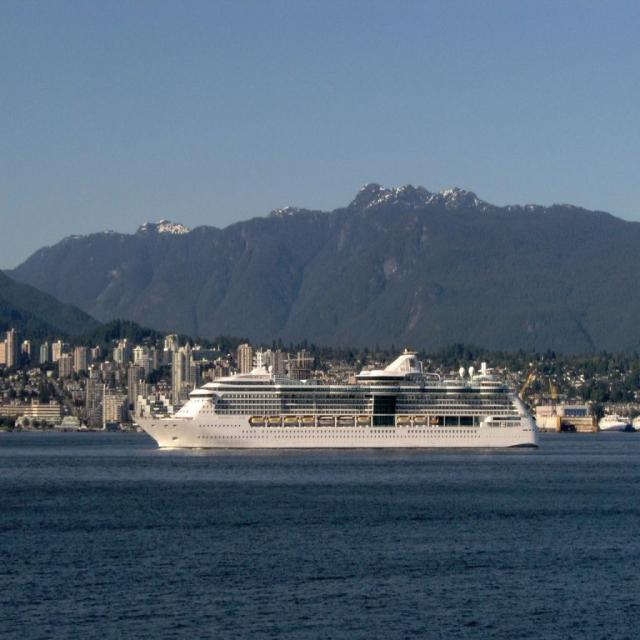Boat: (156, 347, 590, 459), (600, 411, 630, 432), (632, 412, 640, 430)
